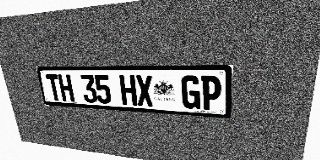3: (80, 75, 98, 103)
5: (94, 75, 112, 104)
G: (181, 75, 200, 109)
H: (119, 75, 137, 106), (57, 74, 75, 102)
P: (201, 75, 222, 111)
T: (45, 74, 62, 101)
X: (135, 75, 154, 107)
